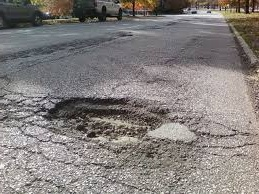pothole: (35, 99, 179, 148), (108, 30, 133, 37)
